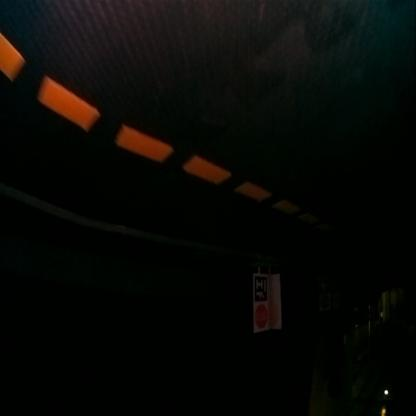QR code: (253, 276, 267, 304)
Stop sign: (254, 305, 268, 331)
